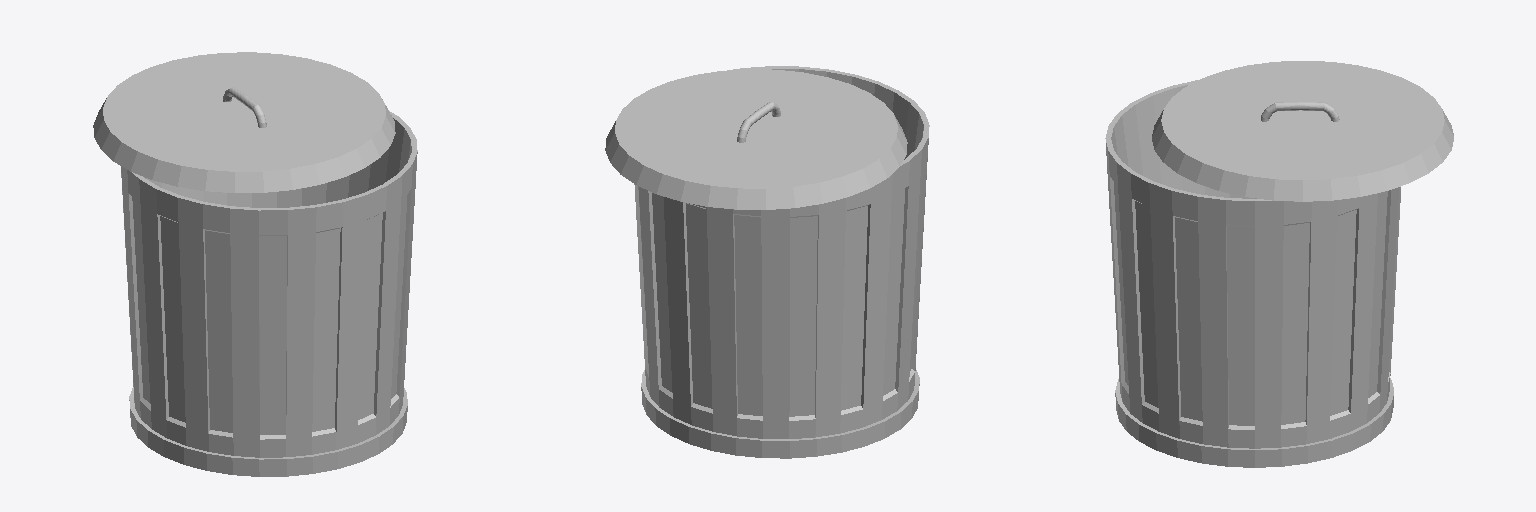
Rendered from Trashcan.obj.
3 renders of one model, left to right at view 1: azimuth 30°, elevation 25°; view 2: azimuth 150°, elevation 25°; view 3: azimuth 270°, elevation 25°, orthographic.
Parts seen in each view (by area): view 1: Cylinder.002; view 2: Cylinder.002; view 3: Cylinder.002.
Boxes of the visible parts, <box> form: Cylinder.002: <box>93,52,417,476</box>; Cylinder.002: <box>605,66,929,458</box>; Cylinder.002: <box>1105,61,1453,467</box>.
Bounding box in the file's own units: 2.03 × 2.27 × 2.34.